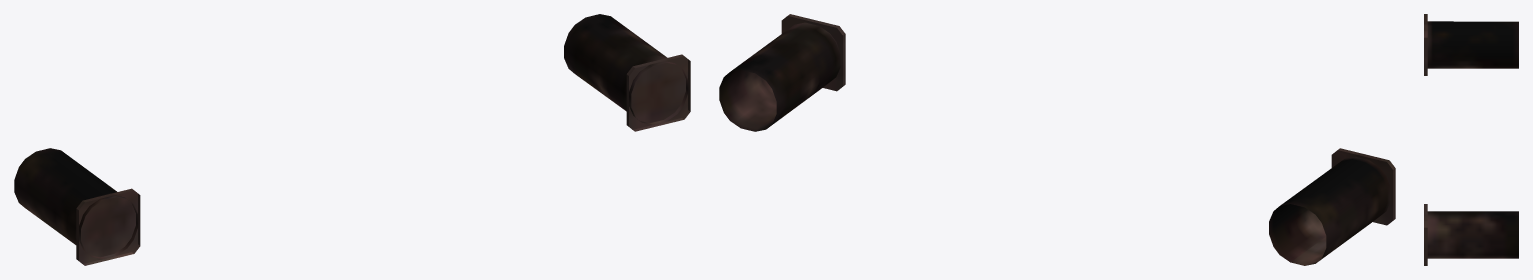
File: BufferStemR.fbx
3 views of the same model, side by side, from view 1: azimuth 30°, elevation 25°; view 2: azimuth 150°, elevation 25°; view 3: azimuth 270°, elevation 25° (orthographic). The views are drawn at different scales.
Visible parts, largest first — view 1: CarTankShortBufferStems.001; view 2: CarTankShortBufferStems.001; view 3: CarTankShortBufferStems.001.
Part boxes in pixels (left/top/right/bottom): CarTankShortBufferStems.001: left=14, top=14, right=690, bottom=265; CarTankShortBufferStems.001: left=719, top=14, right=1395, bottom=265; CarTankShortBufferStems.001: left=1424, top=14, right=1518, bottom=265.
Bounding box in the file's own units: 192 × 19.09 × 36.51.
